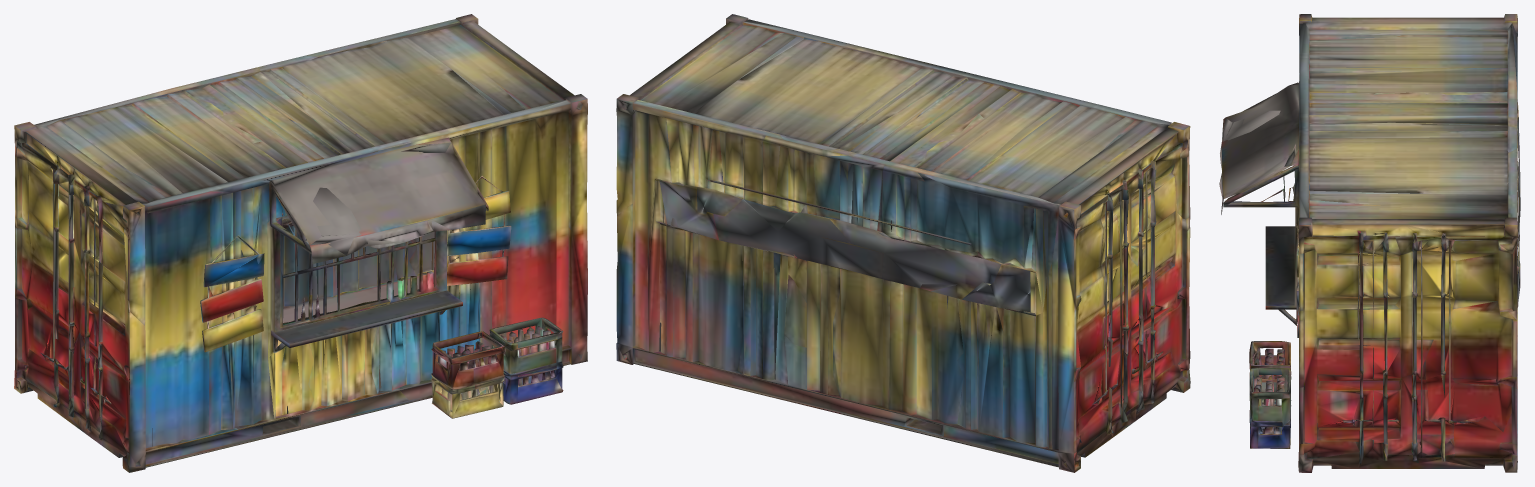
File: spaza.glb
The picture shows the model from 3 angles, left to right: view 1: azimuth 30°, elevation 25°; view 2: azimuth 150°, elevation 25°; view 3: azimuth 270°, elevation 25°; orthographic projection. The views are drawn at different scales.
Size of the model in its own units: 1.9 by 1.04 by 1.14.
1 material, 1 textured.
